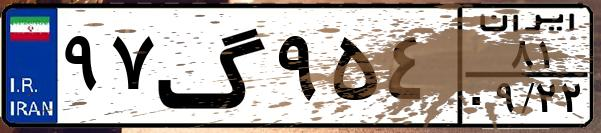0: (470, 70, 495, 125)
1: (537, 27, 568, 80)
2: (560, 70, 590, 125), (535, 70, 560, 125)
4: (385, 28, 445, 110)
5: (330, 28, 385, 110)
7: (110, 28, 156, 98)
8: (508, 27, 537, 80)
9: (270, 28, 330, 110), (57, 26, 110, 100), (495, 70, 520, 125)
گ: (156, 12, 270, 120)
